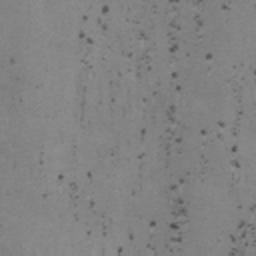Oxide scale of temperature system: (170, 45, 178, 52), (170, 223, 179, 229), (102, 6, 109, 13)
